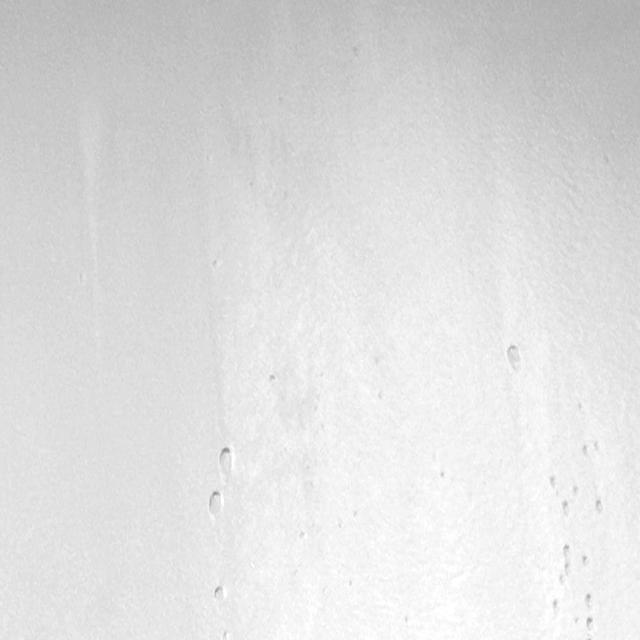pin holes: (213, 446, 236, 480), (503, 343, 526, 376), (206, 489, 226, 518), (212, 583, 230, 604), (558, 499, 573, 520), (593, 497, 607, 516), (585, 614, 598, 633), (583, 591, 596, 609), (548, 473, 560, 492), (557, 572, 569, 590), (579, 551, 591, 568), (551, 597, 563, 614), (580, 440, 590, 460), (590, 436, 600, 456), (266, 372, 279, 387), (375, 390, 388, 405), (208, 257, 221, 272), (576, 400, 588, 416), (561, 543, 573, 558), (438, 469, 450, 484), (565, 558, 574, 578), (572, 484, 584, 498), (572, 614, 584, 628), (401, 613, 412, 628), (350, 508, 361, 523), (298, 528, 309, 541), (221, 628, 232, 638)
